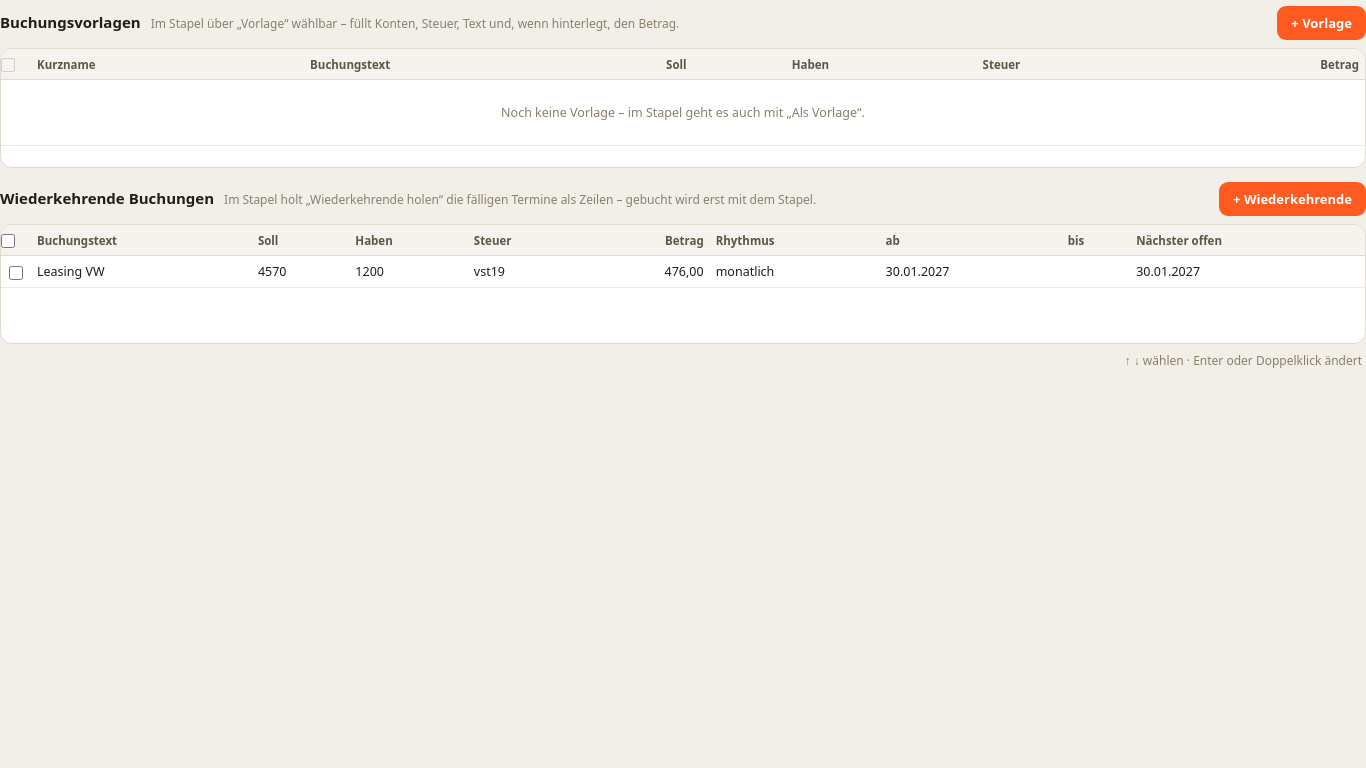
Test: Vorlagen-Seite › wiederkehrende ohne Betrag geht nicht; ändern öffnet mit Werten
Press Home in the element named "Wiederkehrende Buchungen", box [0,224,1365,344]
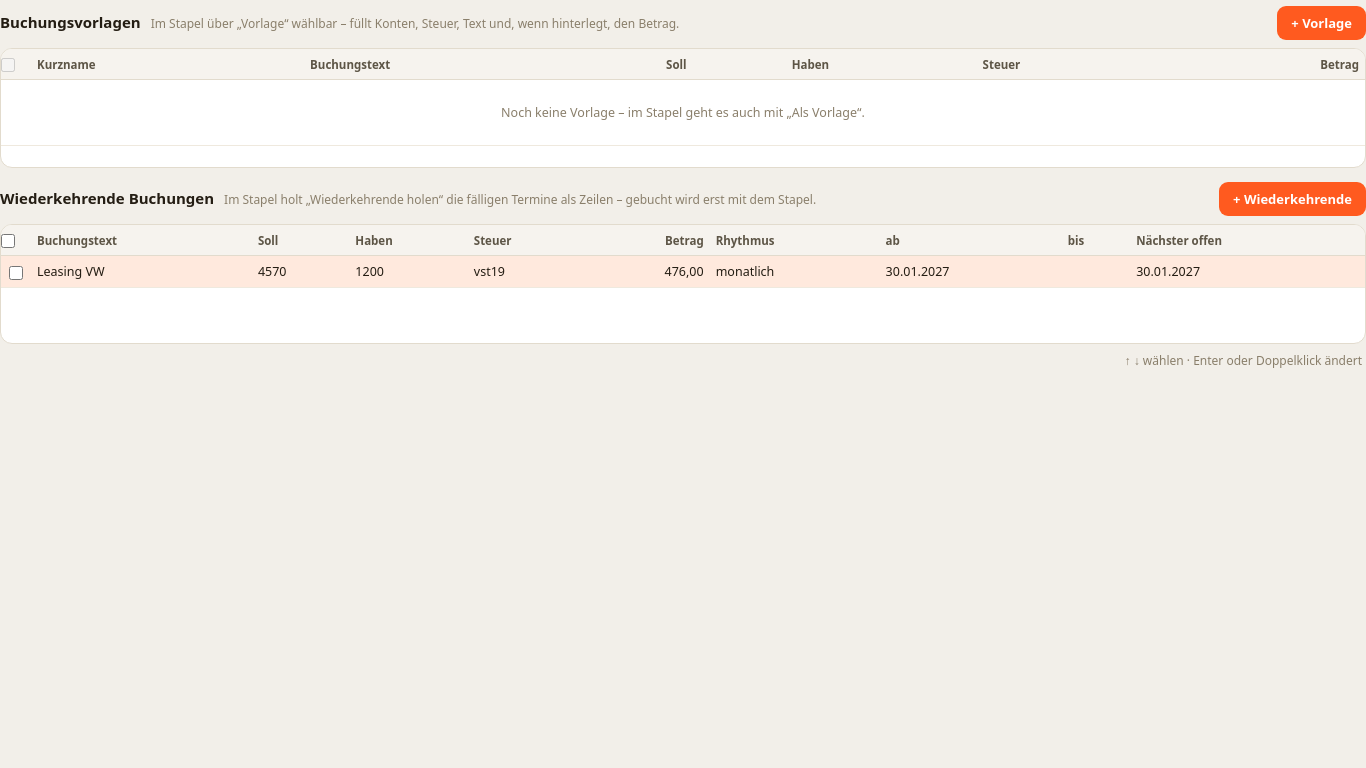
Press Enter in the element named "Wiederkehrende Buchungen", box [0,224,1365,344]
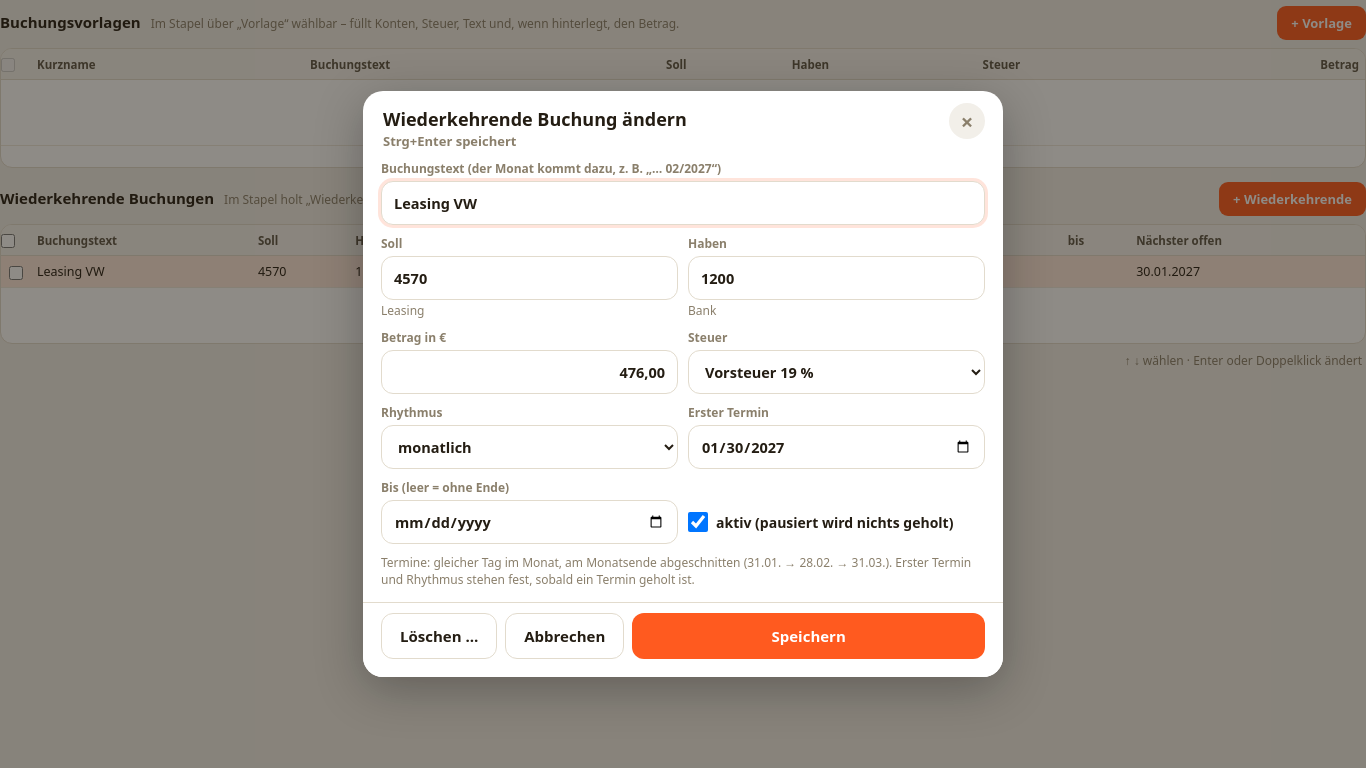
Now the heading "Wiederkehrende Buchung ändern" is shown, box [383,107,687,131]
Now the field labelled "Betrag" holds "476,00"
Clear the field labelled "Betrag" at [530, 372], box [381,350,678,394]
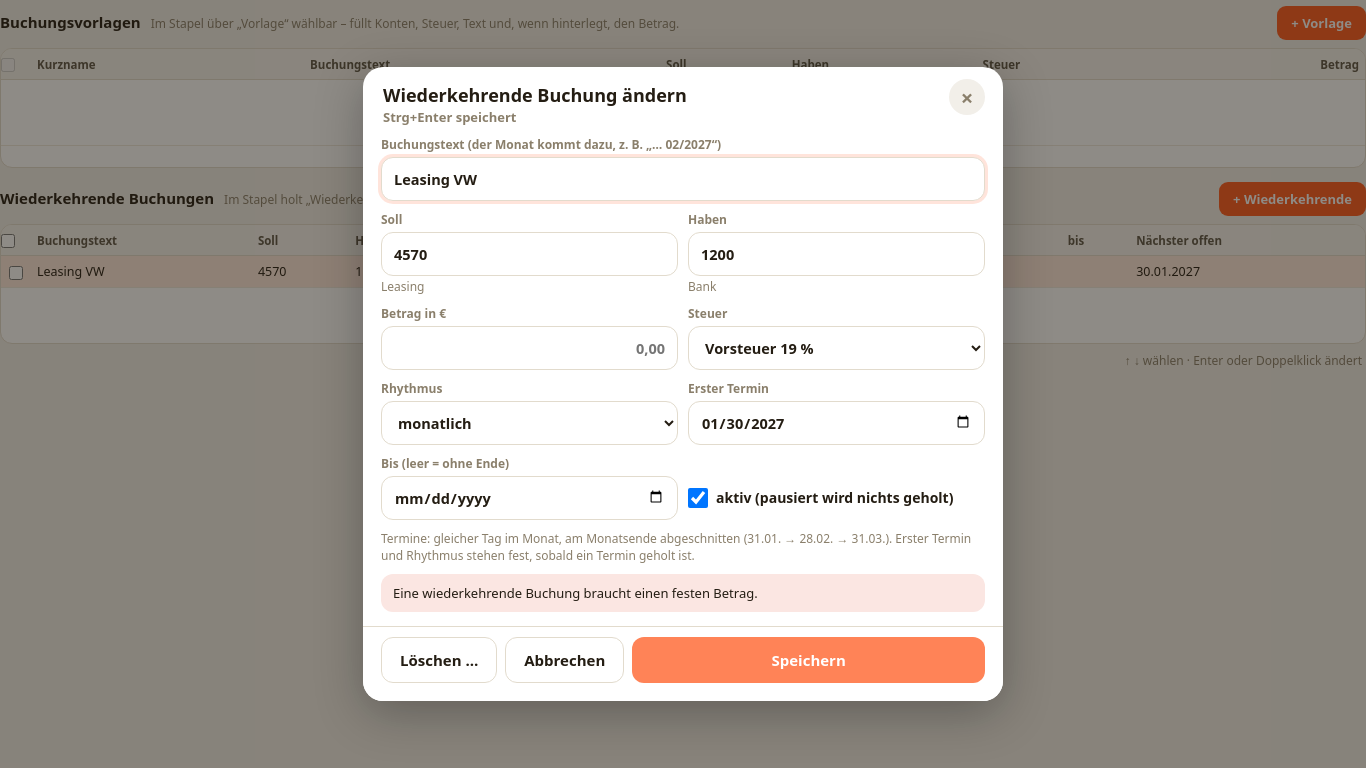
Now the message reads "Eine wiederkehrende Buchung braucht einen festen Betrag.", box [393,584,758,602]
